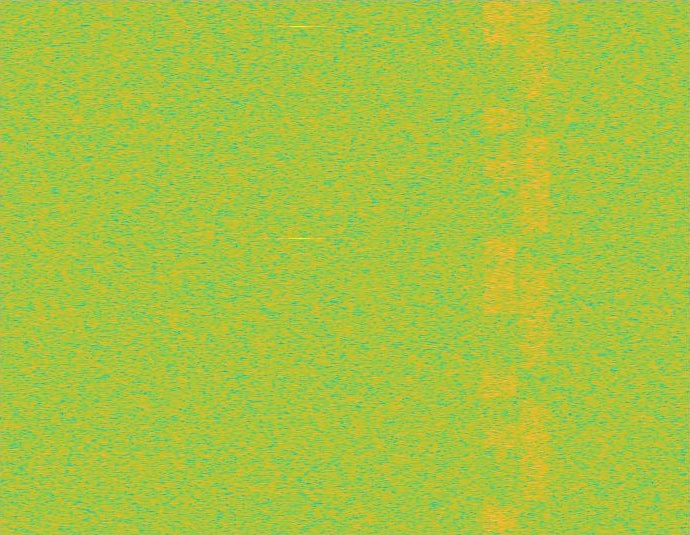5G: (518, 0, 552, 534)
LTE: (483, 0, 518, 534)
Radar: (294, 0, 307, 534)
